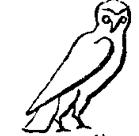Owl: (21, 1, 132, 136)
